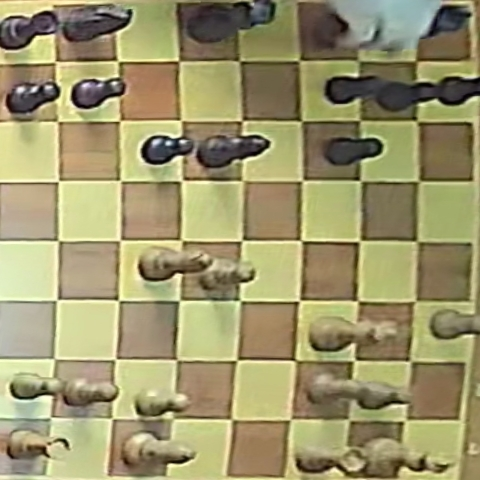black-bishop: (198, 134, 269, 168)
black-king: (392, 3, 476, 46)
black-knight: (61, 4, 132, 43)
black-pawn: (375, 79, 437, 112), (326, 75, 387, 106), (6, 81, 59, 116), (71, 77, 125, 109), (325, 137, 383, 166), (142, 135, 195, 165), (433, 75, 479, 106)
black-queen: (186, 1, 275, 44)
black-rook: (1, 11, 59, 50)
white-bishop: (122, 431, 195, 468), (140, 246, 213, 281)
white-king: (359, 439, 449, 476)
white-pawn: (196, 257, 254, 291), (307, 374, 366, 405), (7, 371, 67, 401), (61, 378, 121, 408), (135, 387, 191, 417), (355, 380, 411, 409), (430, 309, 479, 339)
white-queen: (310, 316, 398, 350)
white-rook: (7, 429, 70, 460), (297, 444, 363, 473)
